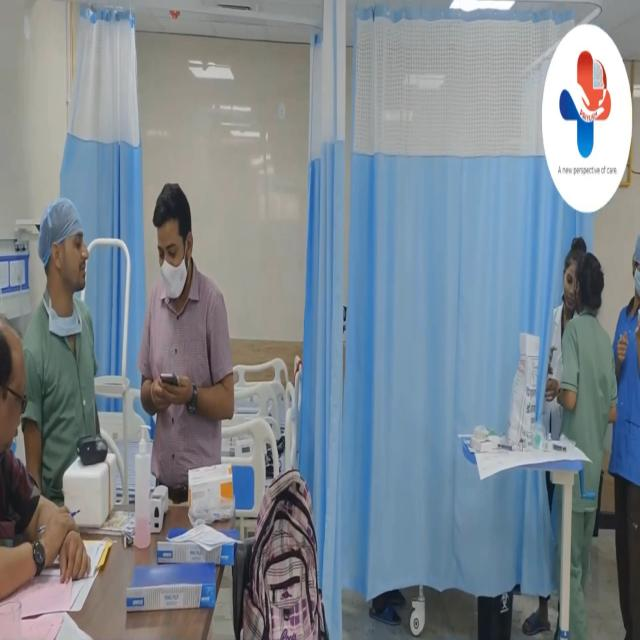Doctor: (138, 178, 249, 458), (0, 294, 86, 598)
Nurse: (27, 179, 124, 467), (573, 262, 608, 594), (617, 224, 639, 640), (544, 236, 580, 440)
